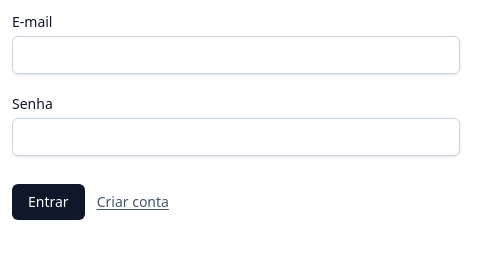
Test: LoginForm — envio › campo inválido NÃO despacha a Action
Step 1. Type "nao-e-email" into the field labelled "E-mail" → (236, 55), box [12,36,460,74]
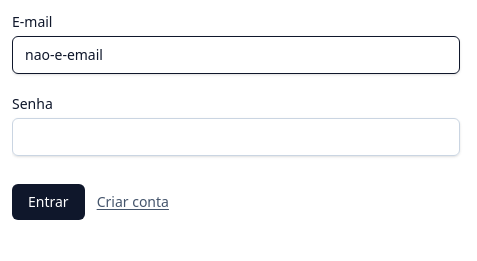
Step 2. Type "segredo123" into the password field labelled "Senha" → (236, 137), box [12,118,460,156]
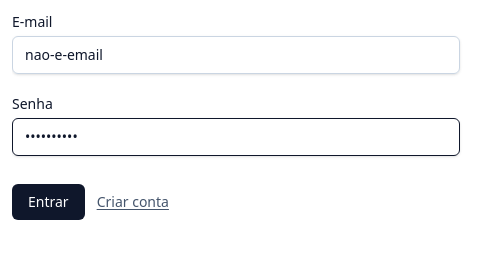
Step 3. Click the button "Entrar" → (48, 202), box [12,184,85,220]
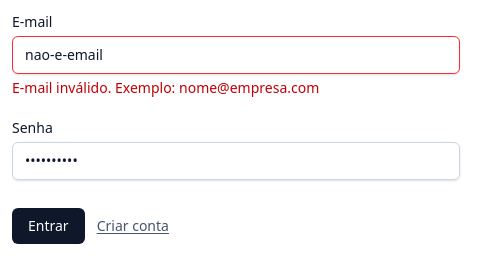
Check: the message "E-mail inválido. Exemplo: nome@empresa.com" is shown, box [12,78,319,97]
